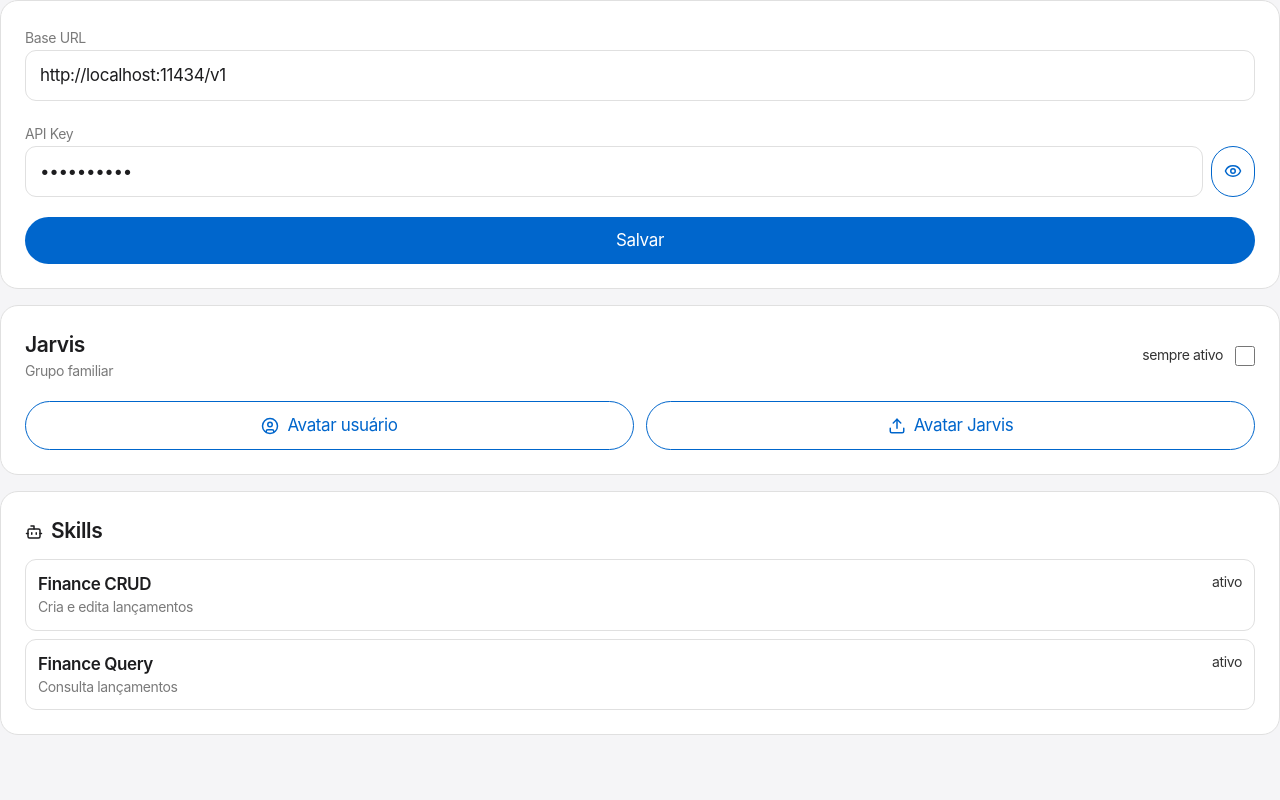
Test: IAConfigForm › pre-populates and validates URL
Type "not-a-url" into the field labelled "Base URL".
click(640, 76); type("not-a-url")  # box left=25, top=50, right=1255, bottom=101
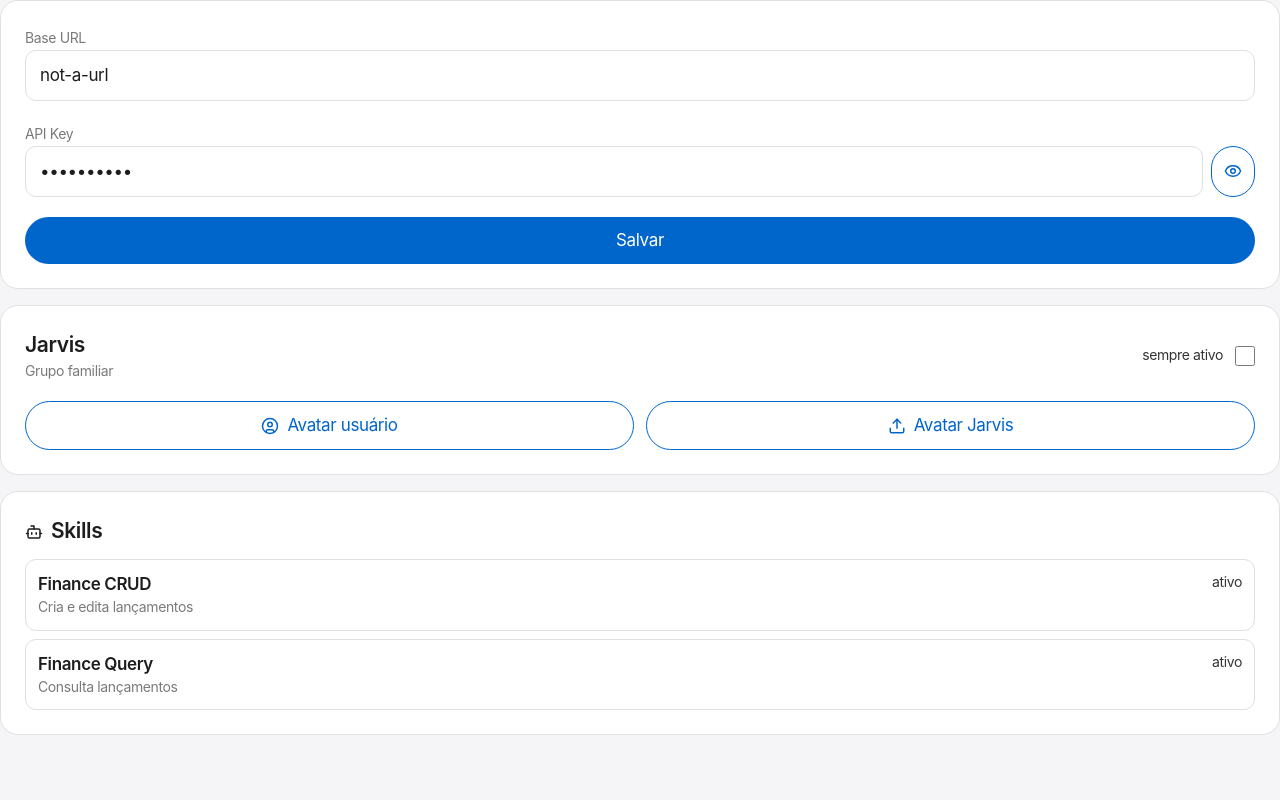
Submit the form "Salvar", box left=0, top=0, right=1279, bottom=289
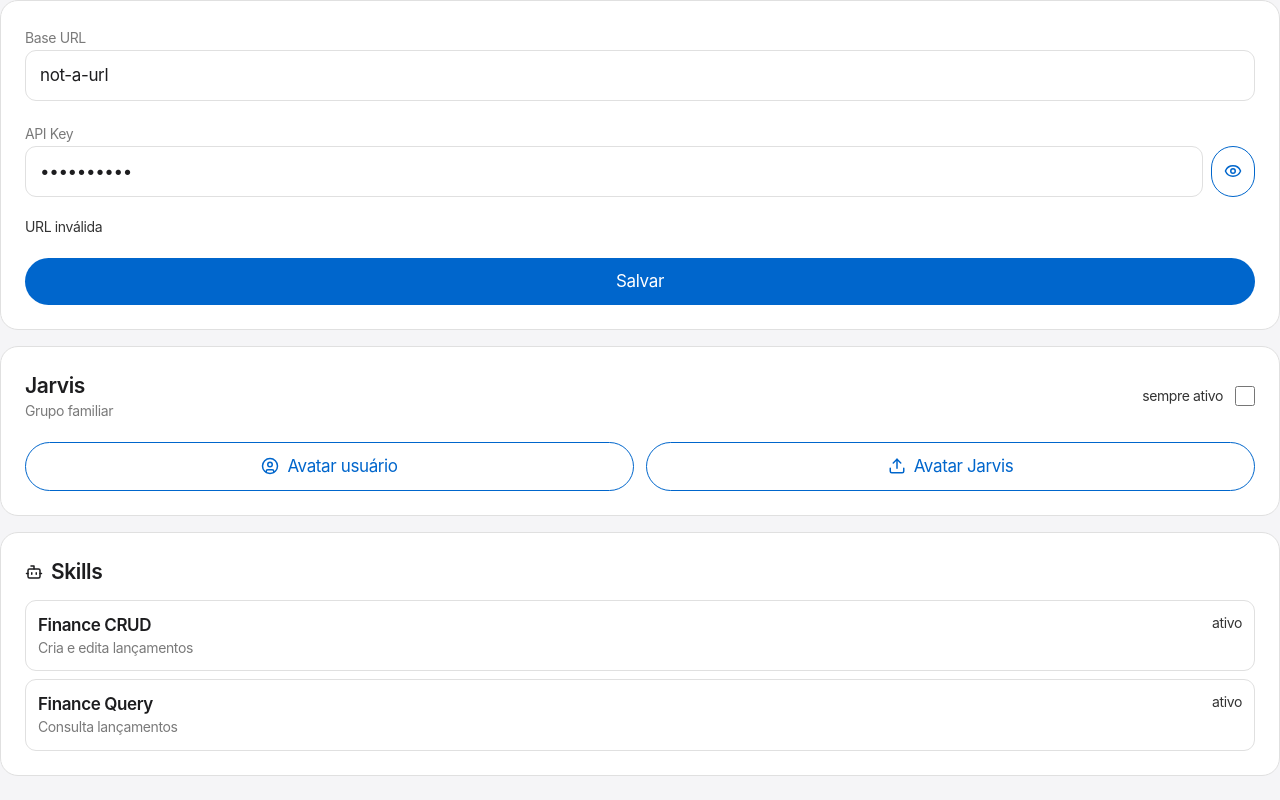
Result: the text "URL inválida" is shown at left=25, top=218, right=102, bottom=235
